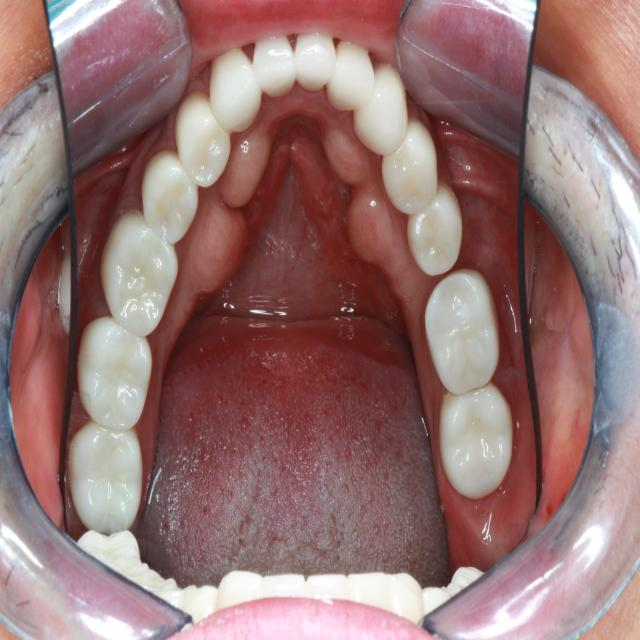tooth: (420, 254, 506, 398), (98, 205, 181, 341), (65, 406, 151, 537), (437, 371, 517, 509), (73, 309, 157, 436), (136, 144, 202, 249), (172, 85, 233, 193), (404, 176, 466, 281), (350, 50, 409, 160), (380, 117, 442, 218), (208, 41, 264, 136), (323, 27, 377, 113), (292, 24, 339, 99), (251, 31, 300, 100)
